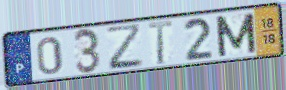0: (34, 35, 65, 76)
2: (182, 16, 215, 63)
3: (72, 26, 102, 77)
M: (213, 11, 259, 58)
T: (146, 18, 175, 67)
Z: (104, 22, 146, 72)
